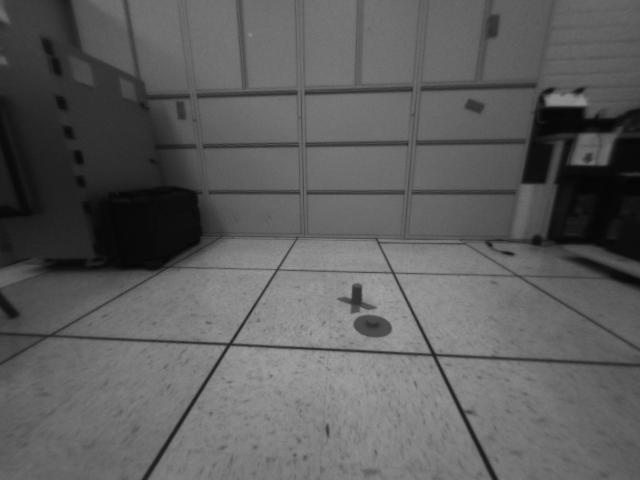X: (338, 284, 377, 313)
